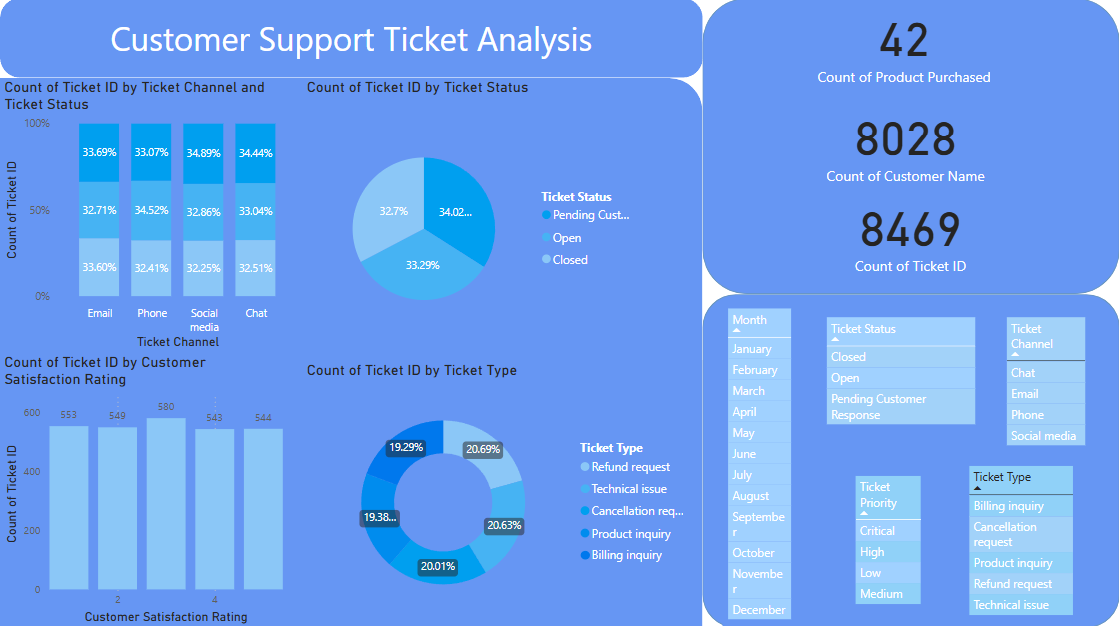

The dashboard page shown, as its layout file describes it:
{"tool":"powerbi","page":{"name":"Page 1","canvas":[1280,720],"ordinal":0},"visuals":[{"type":"shape","box":[0,91.4,802.9,628.6],"z":0},{"type":"shape","box":[0,0,802.9,91.4],"z":1000},{"type":"hundredPercentStackedColumnChart","fields":{"Category":["task2.Ticket Channel"],"Y":["CountNonNull(task2.Ticket ID)"],"Series":["task2.Ticket Status"]},"box":[0,91.4,345.7,314.3],"z":2000},{"type":"pieChart","fields":{"Category":["task2.Ticket Status"],"Y":["CountNonNull(task2.Ticket ID)"]},"box":[345.7,91.4,392.9,325.7],"z":2001},{"type":"columnChart","fields":{"Category":["task2.Customer Satisfaction Rating"],"Y":["Count(task2.Ticket ID)"]},"box":[0,405.7,328.6,314.3],"z":2003},{"type":"donutChart","fields":{"Y":["CountNonNull(task2.Ticket ID)"],"Category":["task2.Ticket Type"]},"box":[345.7,414.3,457.1,305.7],"z":2004},{"type":"shape","box":[802.9,0,477.1,338.6],"z":2006},{"type":"card","fields":{"Values":["Count(task2.Product Purchased)"]},"box":[918.6,0,230,102.9],"z":2007},{"type":"card","fields":{"Values":["Count(task2.Customer Name)"]},"box":[921.4,115.7,227.1,98.6],"z":2008},{"type":"shape","box":[802.9,338.6,477.1,381.4],"z":2009},{"type":"card","fields":{"Values":["Count(task2.Ticket ID)"]},"box":[954.3,214.3,172.9,107.1],"z":2010},{"type":"tableEx","fields":{"Values":["task2.Date of Purchase.Variation.Date Hierarchy.Month"]},"box":[825.7,350,92.9,370],"z":2011},{"type":"tableEx","fields":{"Values":["task2.Ticket Status"]},"box":[938.6,360,191.4,137.1],"z":2012},{"type":"tableEx","fields":{"Values":["task2.Ticket Priority"]},"box":[954.3,530,95.7,160],"z":2013},{"type":"tableEx","fields":{"Values":["task2.Ticket Channel"]},"box":[1144.3,360,111.4,158.6],"z":2014},{"type":"tableEx","fields":{"Values":["task2.Ticket Type"]},"box":[1101.4,530,140,181.4],"z":2015}]}

Visuals, with their boxes in screenshot pixels (x1, y1, x2, y2), scaled from the page's 1280x720 canvas onto the 1119x626 screenshot:
shape: x1=0, y1=79, x2=702, y2=625
shape: x1=0, y1=0, x2=702, y2=79
hundredPercentStackedColumnChart - task2.Ticket Channel x CountNonNull(task2.Ticket ID): x1=0, y1=79, x2=302, y2=353
pieChart - task2.Ticket Status x CountNonNull(task2.Ticket ID): x1=302, y1=79, x2=646, y2=363
columnChart - task2.Customer Satisfaction Rating x Count(task2.Ticket ID): x1=0, y1=353, x2=287, y2=625
donutChart - CountNonNull(task2.Ticket ID) x task2.Ticket Type: x1=302, y1=360, x2=702, y2=625
shape: x1=702, y1=0, x2=1118, y2=294
card - Count(task2.Product Purchased): x1=803, y1=0, x2=1004, y2=89
card - Count(task2.Customer Name): x1=806, y1=101, x2=1004, y2=186
shape: x1=702, y1=294, x2=1118, y2=625
card - Count(task2.Ticket ID): x1=834, y1=186, x2=985, y2=279
tableEx - task2.Date of Purchase.Variation.Date Hierarchy.Month: x1=722, y1=304, x2=803, y2=625
tableEx - task2.Ticket Status: x1=821, y1=313, x2=988, y2=432
tableEx - task2.Ticket Priority: x1=834, y1=461, x2=918, y2=600
tableEx - task2.Ticket Channel: x1=1000, y1=313, x2=1098, y2=451
tableEx - task2.Ticket Type: x1=963, y1=461, x2=1085, y2=619
